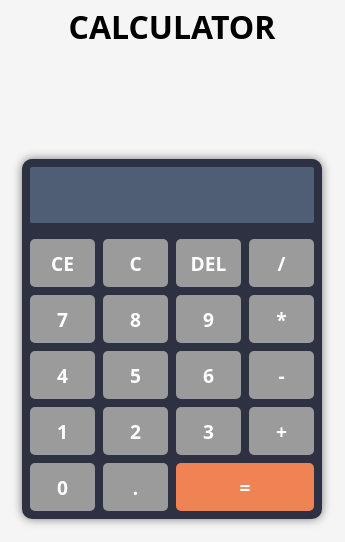
Calculator › should delete last character when click on DEL
The width and height of the screenshot is (345, 542).
Click the text "5" at (136, 375), box [103, 351, 168, 399]
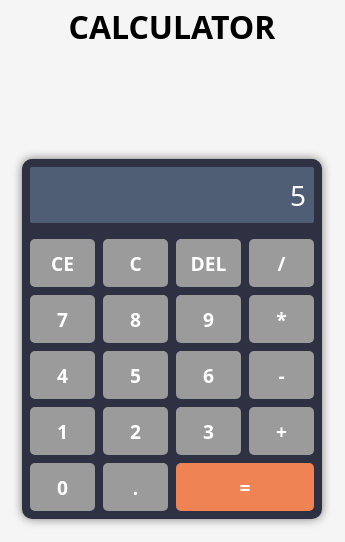
Click the text "." at (136, 487), box [103, 463, 168, 511]
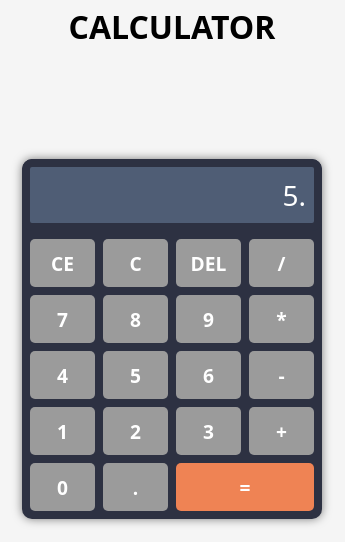
Click the text "DEL" at (208, 263), box [176, 239, 241, 287]
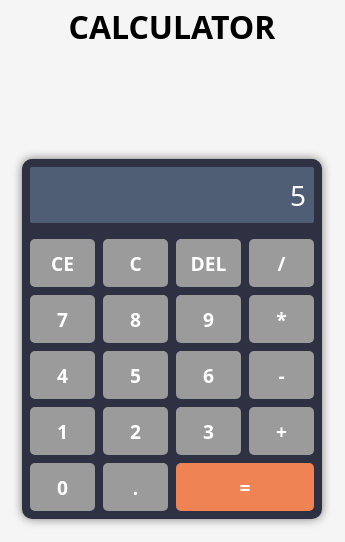
Check: the field holds "5", box [22, 159, 322, 231]
